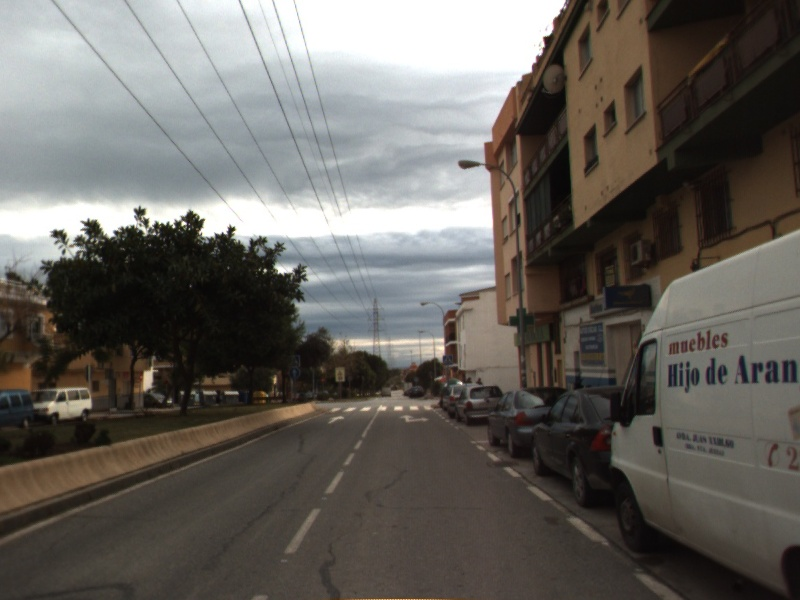STRAIGHT: (326, 414, 347, 425)
STRAIGHT_RIGHT: (398, 413, 431, 424)
